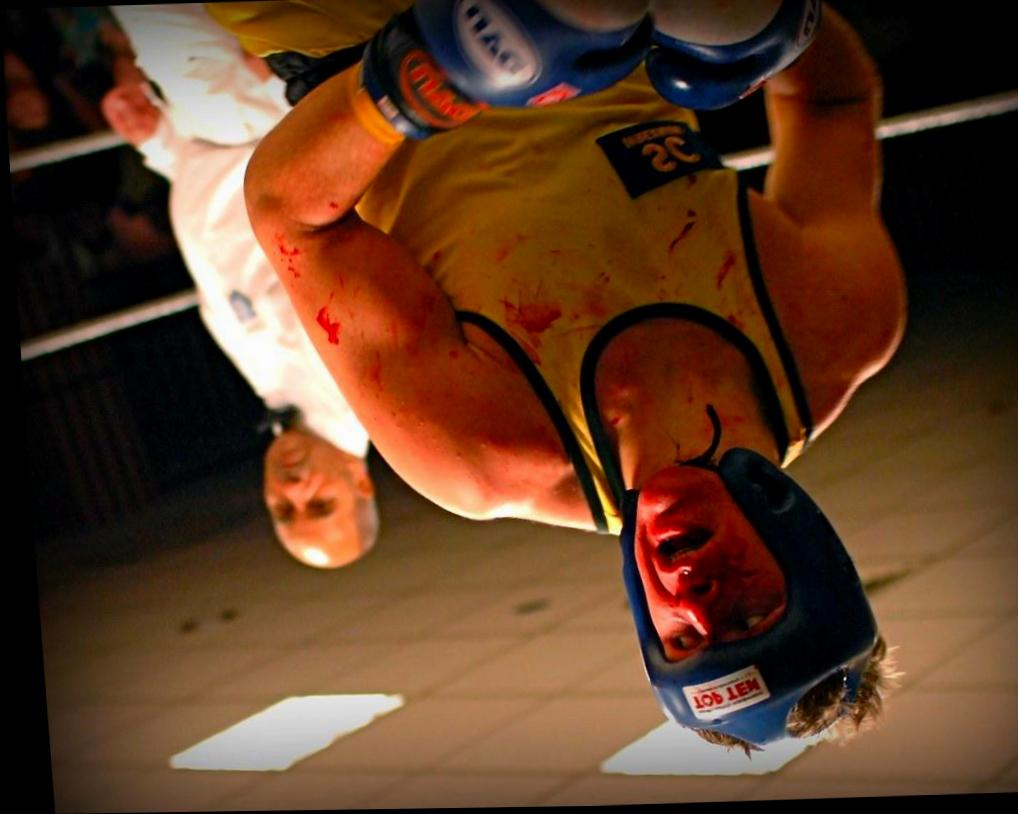Fire: (670, 508, 779, 645), (496, 287, 559, 335), (360, 355, 380, 406), (712, 251, 736, 292), (312, 306, 336, 346), (512, 332, 538, 368), (710, 405, 735, 440), (668, 222, 694, 255), (275, 245, 296, 279), (325, 202, 338, 215)
